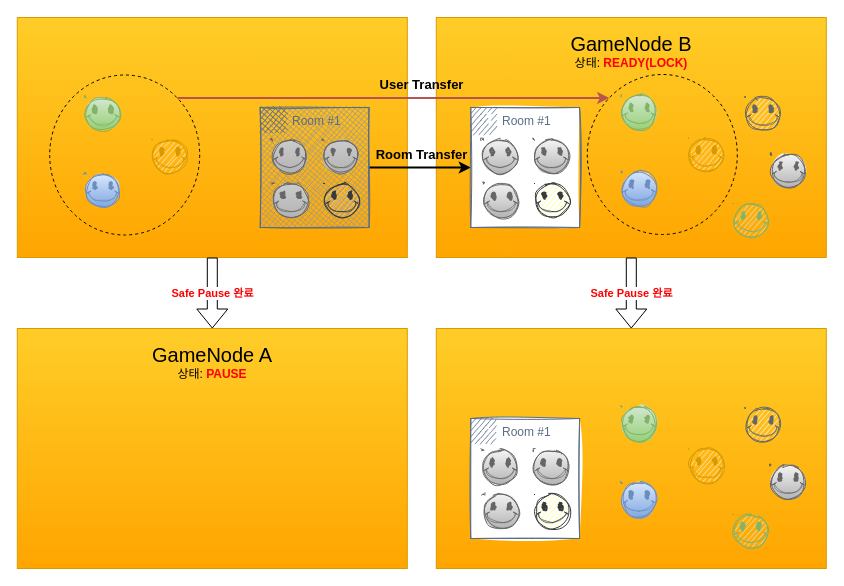
This 844x586 diagram has some shape labels left out. The shapes that lost their labels are listed below. From the top down, each one's box as (x1, y1, x2, y2) in pixels, then its label:
(16, 16, 407, 258): GameNode A 상태: SAFE PAUSE
(435, 328, 826, 568): GameNode B 상태: READY
